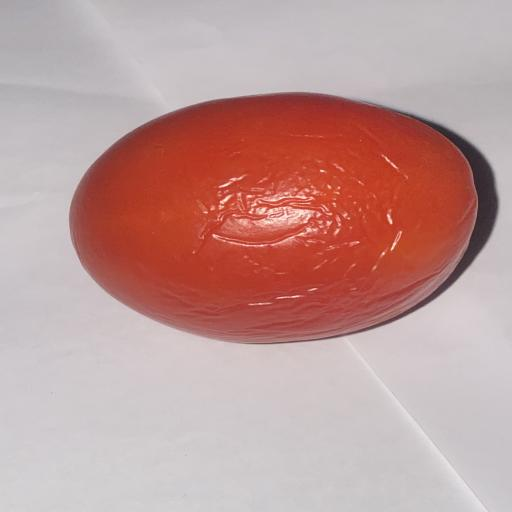spoiled: (70, 93, 477, 342)
